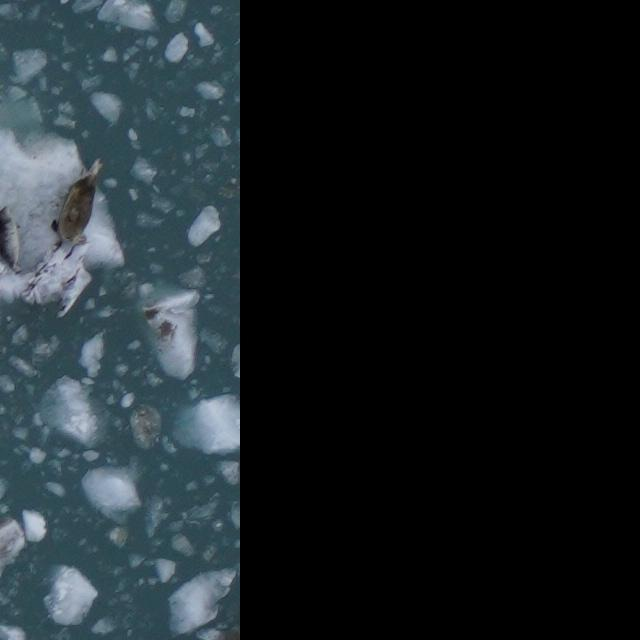seal: (50, 155, 106, 248), (0, 203, 25, 277)
